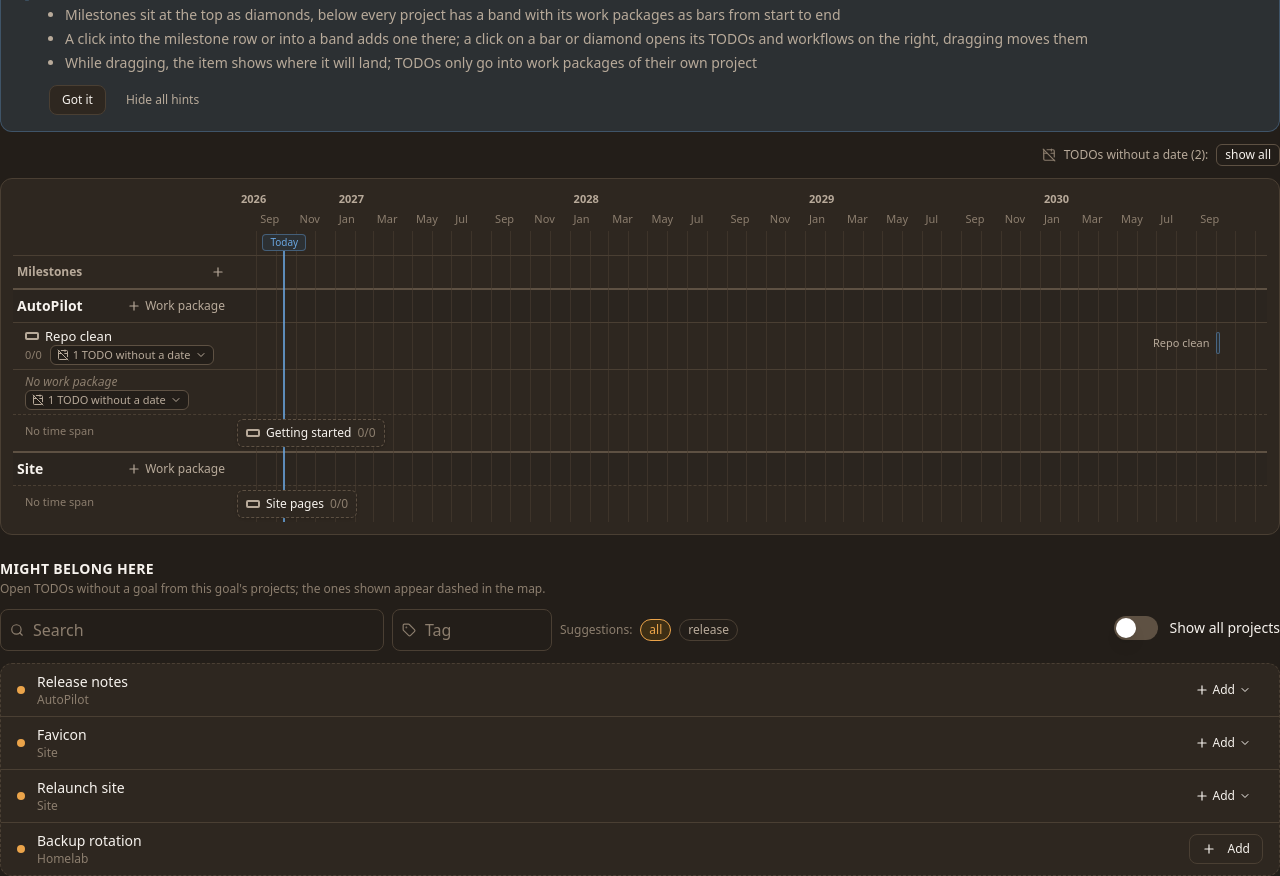
Test case: “Show” after adding › in the timeline opens the folded row of TODOs without a date and highlights the new one
(page scrolled)
Click the button with aria-label "Add: Release notes" at (1223, 690), box [1183,676,1263,704]
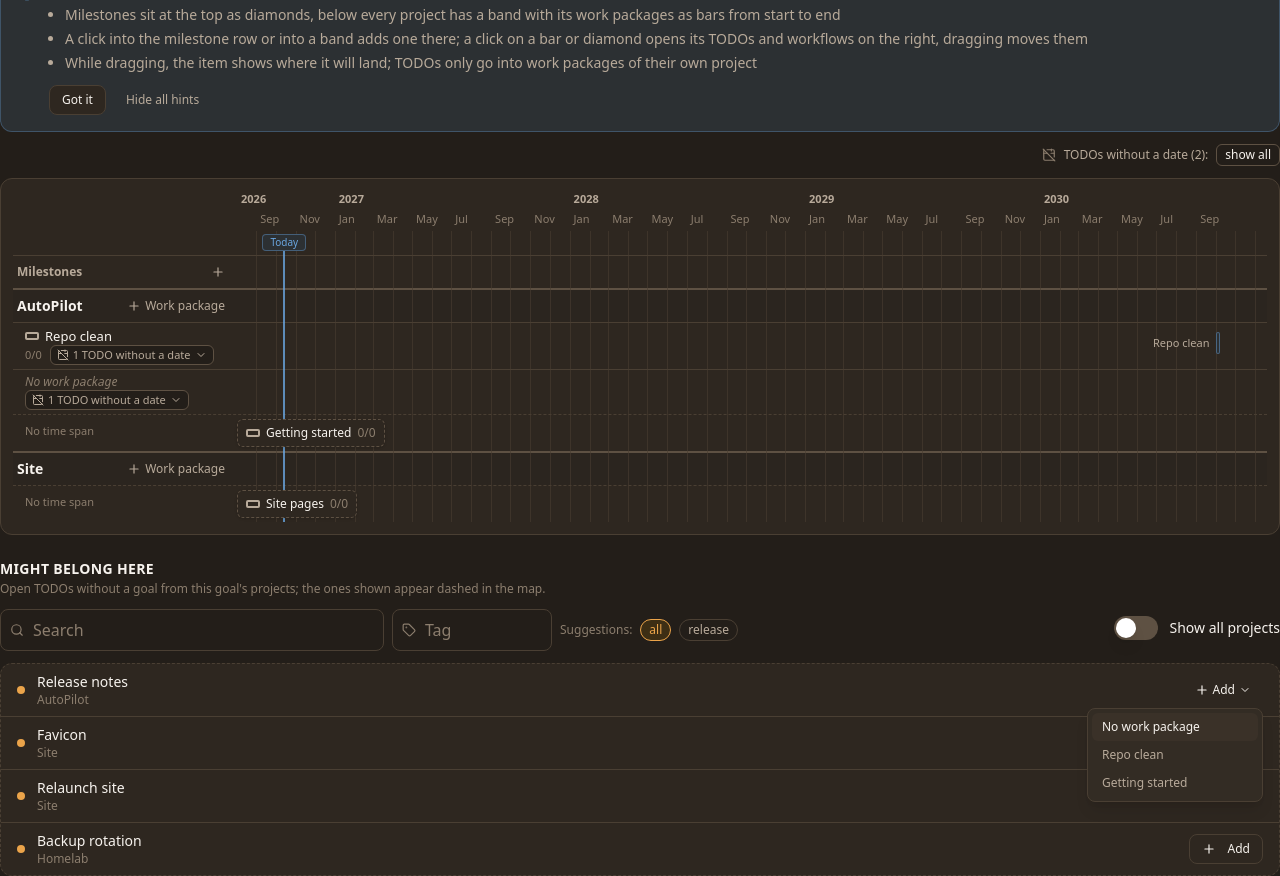
Click the menu item "Repo clean" at (1175, 755), box [1092,741,1258,769]
(page scrolled)
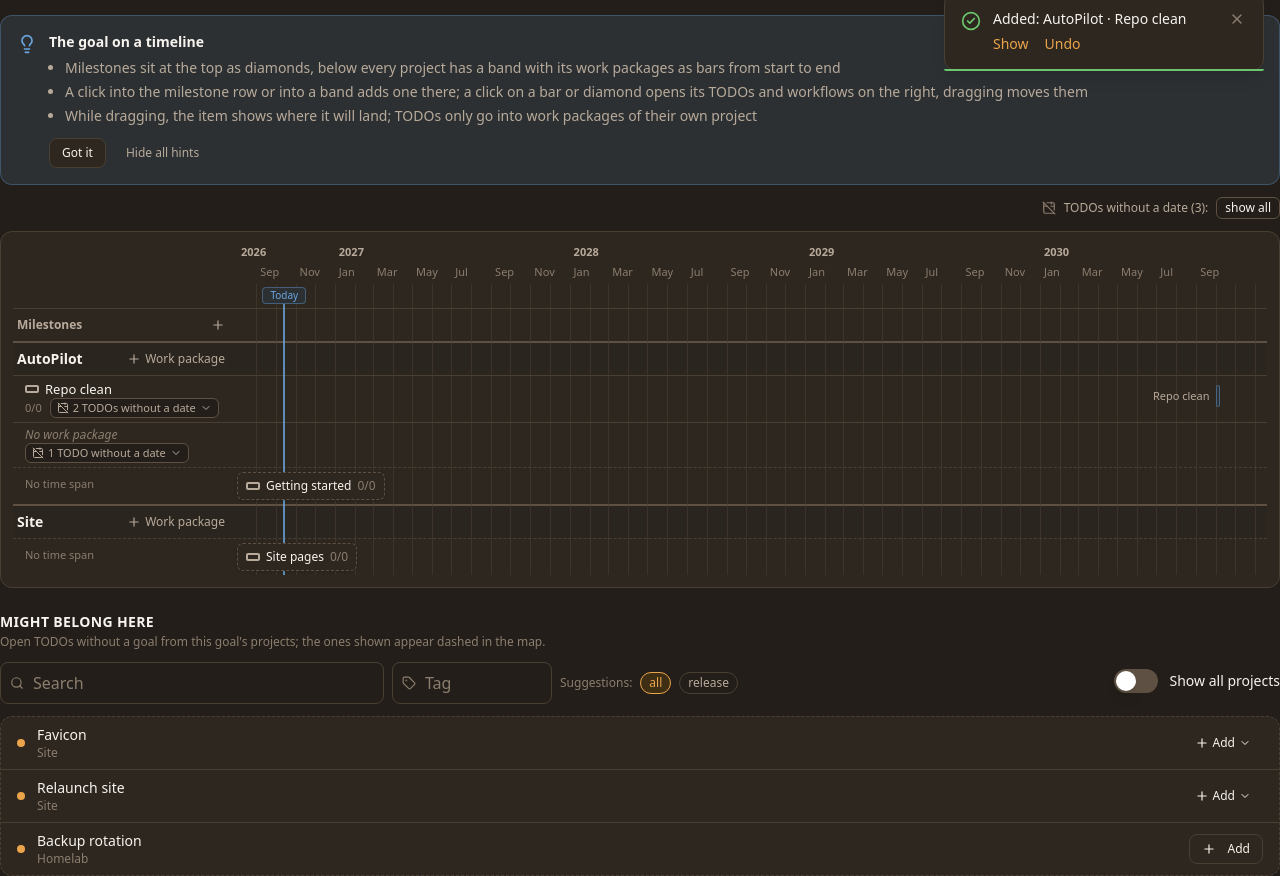
Click the button "Show" at (1011, 44), box [993,34,1028,54]
(page scrolled)
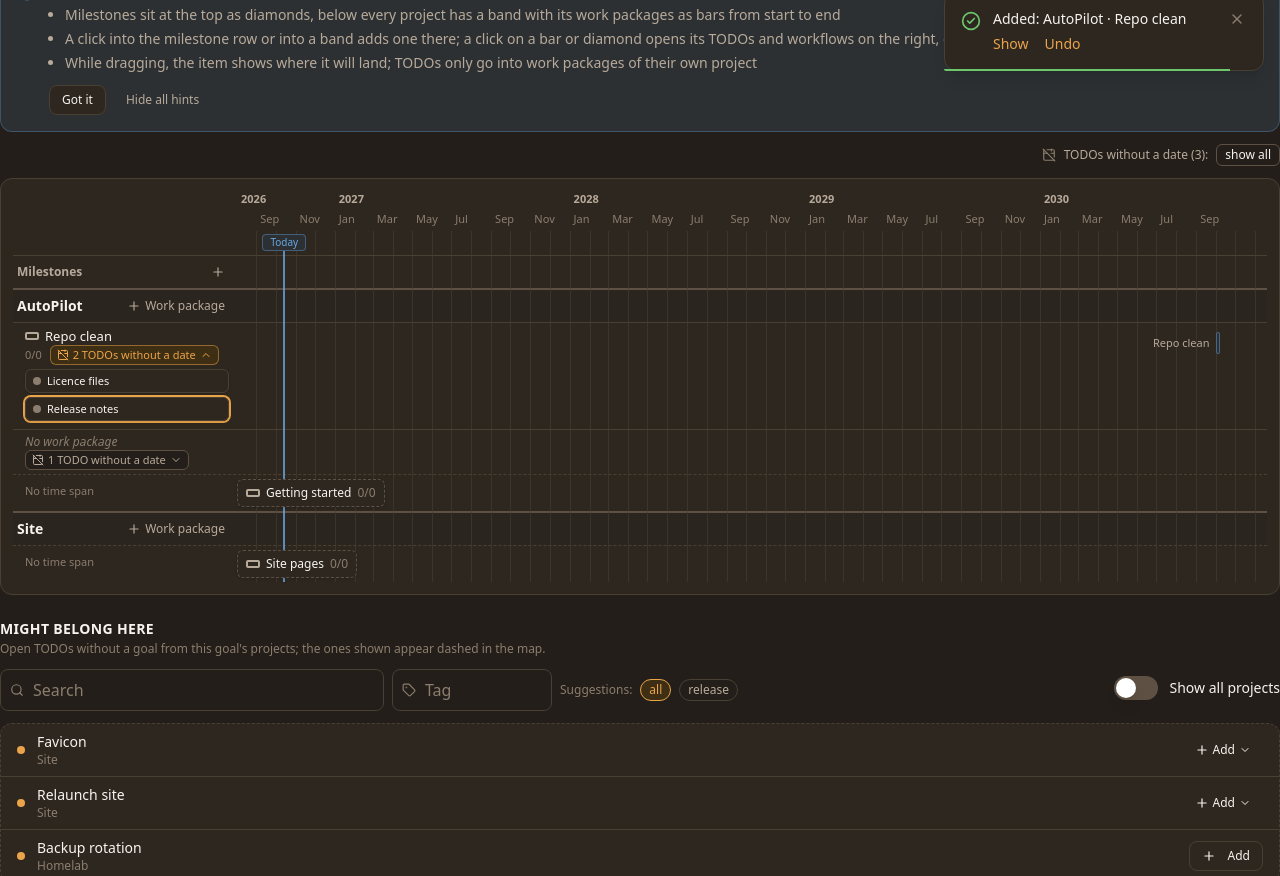
Expected: the button "2 TODOs without a date" is expanded, [50,345,219,365]
Expected: the button with aria-label "Release notes – no due date" is shown, [25,397,229,421]
